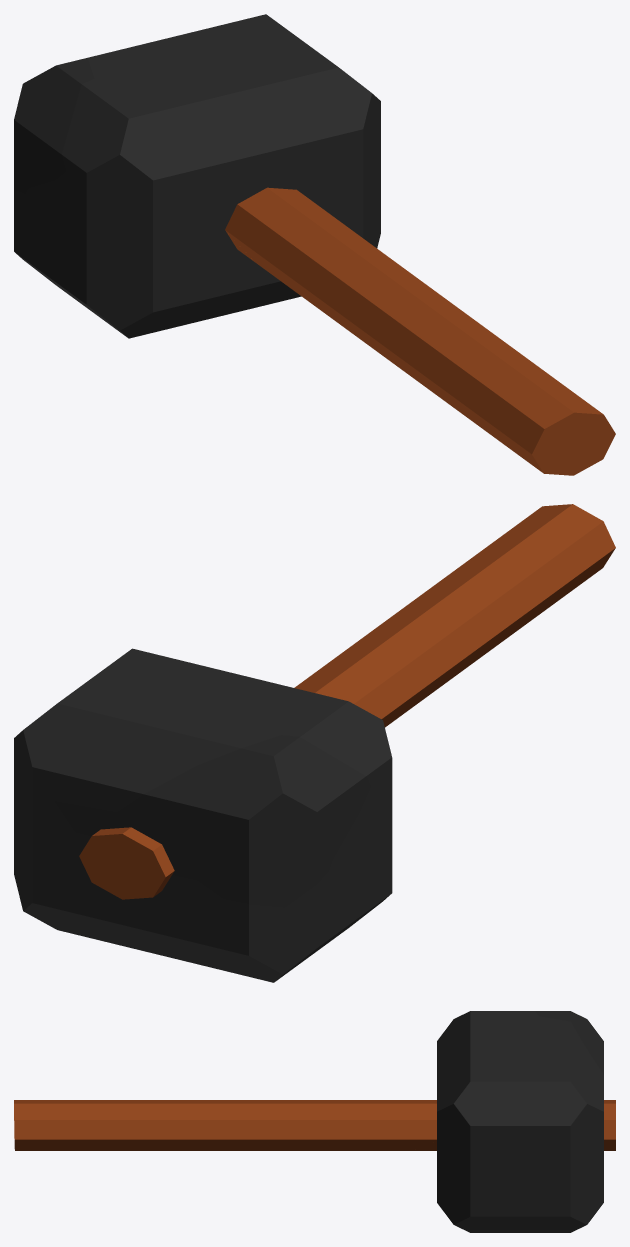
The model's file is hammer 2 PARTS.FBX.
3 views of the same model, one above another, from view 1: azimuth 30°, elevation 25°; view 2: azimuth 150°, elevation 25°; view 3: azimuth 270°, elevation 25° (orthographic). The views are drawn at different scales.
Visible parts, largest first — view 1: Plane044, Plane031, Plane022, Plane032, Plane037, Plane043, Plane038, Plane023, Plane028, Plane036, Plane024, Plane030; view 2: Plane023, Plane022, Plane044, Plane024, Plane027, Plane028, Plane042, Plane031, Plane043, Plane032, Plane026, Plane029; view 3: Plane044, Plane028, Plane043, Plane038, Plane022, Plane037, Plane029, Plane027, Plane032, Plane023, Plane042.
Boxes of the visible parts, x1,y1,x2,y2 form: Plane044: [259, 187, 615, 469]; Plane031: [48, 178, 236, 338]; Plane022: [62, 21, 263, 170]; Plane032: [66, 83, 265, 218]; Plane037: [213, 60, 380, 215]; Plane043: [225, 188, 611, 475]; Plane038: [220, 142, 380, 299]; Plane023: [14, 58, 94, 193]; Plane028: [239, 14, 328, 82]; Plane036: [167, 216, 287, 329]; Plane024: [14, 180, 85, 306]; Plane030: [56, 172, 213, 238]; Plane023: [54, 735, 370, 907]; Plane022: [30, 668, 379, 811]; Plane044: [310, 504, 615, 706]; Plane024: [76, 813, 359, 982]; Plane027: [14, 828, 187, 961]; Plane028: [14, 656, 203, 835]; Plane042: [79, 827, 174, 899]; Plane031: [308, 795, 392, 957]; Plane043: [294, 562, 606, 727]; Plane032: [204, 667, 392, 795]; Plane026: [30, 800, 75, 839]; Plane029: [14, 803, 30, 866]; Plane044: [14, 1100, 436, 1142]; Plane028: [474, 1057, 603, 1168]; Plane043: [14, 1100, 436, 1150]; Plane038: [437, 1124, 536, 1232]; Plane022: [458, 1011, 603, 1112]; Plane037: [437, 1056, 503, 1159]; Plane029: [505, 1145, 600, 1223]; Plane027: [536, 1160, 603, 1232]; Plane032: [437, 1017, 473, 1075]; Plane023: [535, 1011, 603, 1074]; Plane042: [413, 1100, 615, 1150].
Size of the model in its own units: 8 by 5.72 by 20.6.
